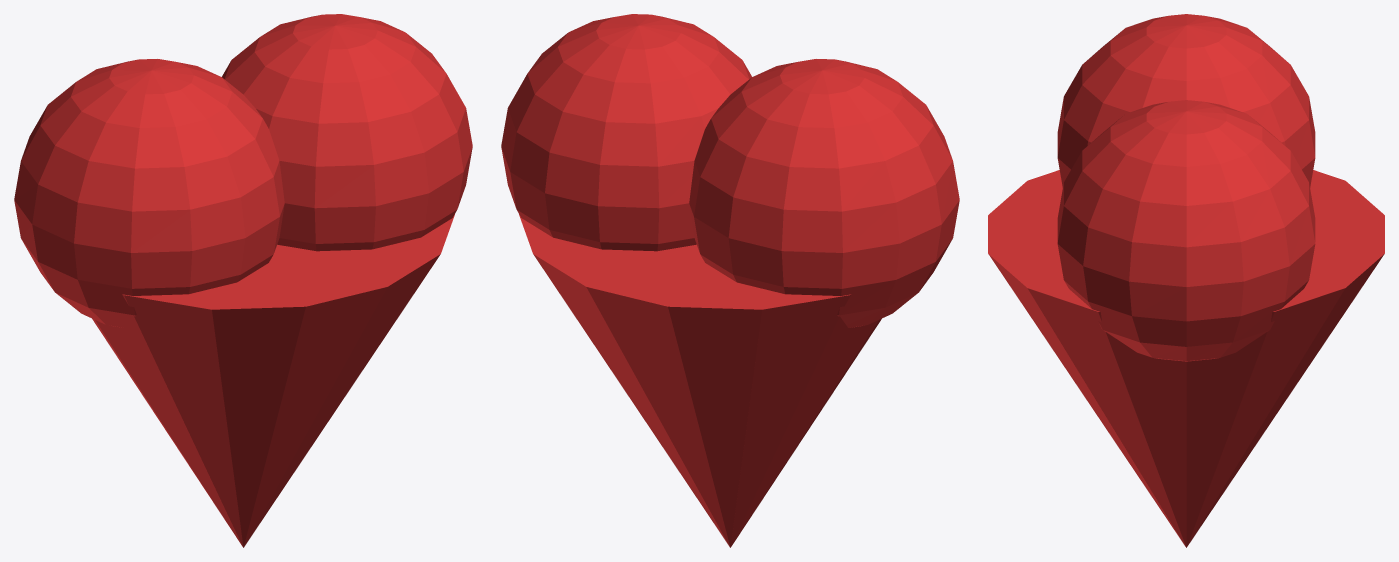
Rendered from Item_CuteWhenAsleep.obj.
3 views of the same model, side by side, from view 1: azimuth 30°, elevation 25°; view 2: azimuth 150°, elevation 25°; view 3: azimuth 270°, elevation 25° (orthographic). The views are drawn at different scales.
Visible parts, largest first — view 1: Item_CuteWhenAsleep; view 2: Item_CuteWhenAsleep; view 3: Item_CuteWhenAsleep.
Part boxes in pixels (box(x1,y1,x2,y2)): Item_CuteWhenAsleep: box(14, 14, 472, 547); Item_CuteWhenAsleep: box(501, 14, 959, 547); Item_CuteWhenAsleep: box(988, 14, 1384, 547).
Size of the model in its own units: 0.46 by 0.52 by 0.39.
